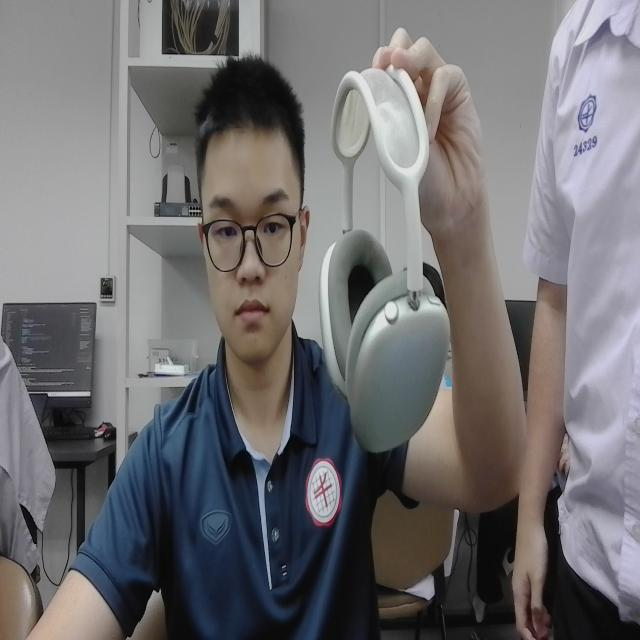airpods max: (311, 51, 452, 466)
